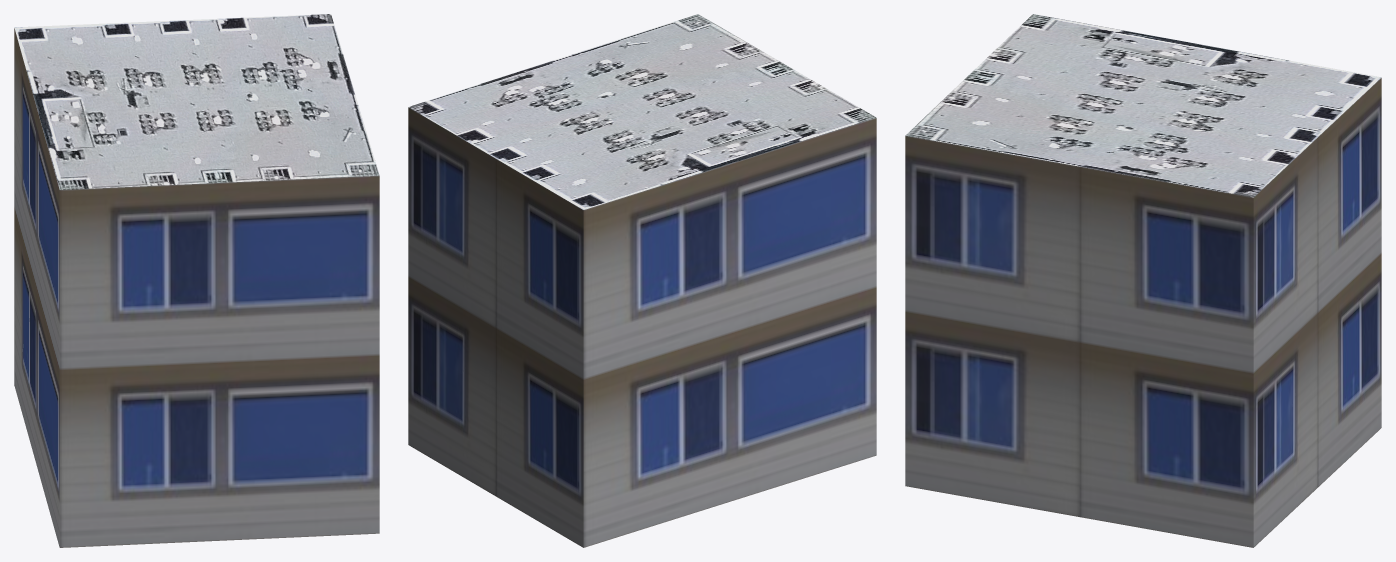
Rendered from ResTex__5269.fbx.
3 renders of one model, left to right at view 1: azimuth 30°, elevation 25°; view 2: azimuth 150°, elevation 25°; view 3: azimuth 270°, elevation 25°, orthographic. The views are drawn at different scales.
Visible parts, largest first — view 1: CityEngineMaterial_23_m, CityEngineMaterial_8_m; view 2: CityEngineMaterial_23_m, CityEngineMaterial_8_m; view 3: CityEngineMaterial_23_m, CityEngineMaterial_8_m.
Part boxes in pixels (left/top/right/bottom): CityEngineMaterial_23_m: left=14, top=28, right=379, bottom=547; CityEngineMaterial_8_m: left=14, top=14, right=379, bottom=189; CityEngineMaterial_23_m: left=408, top=107, right=876, bottom=547; CityEngineMaterial_8_m: left=408, top=14, right=876, bottom=209; CityEngineMaterial_23_m: left=905, top=78, right=1381, bottom=547; CityEngineMaterial_8_m: left=905, top=14, right=1381, bottom=197.
Size of the model in its own units: 6.74 by 6 by 7.39.
2 materials, 2 textured.
